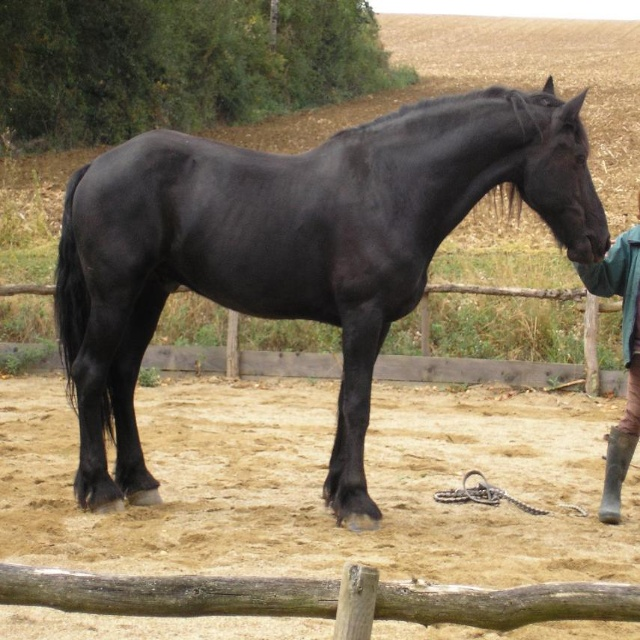Horse: (54, 71, 613, 533)
